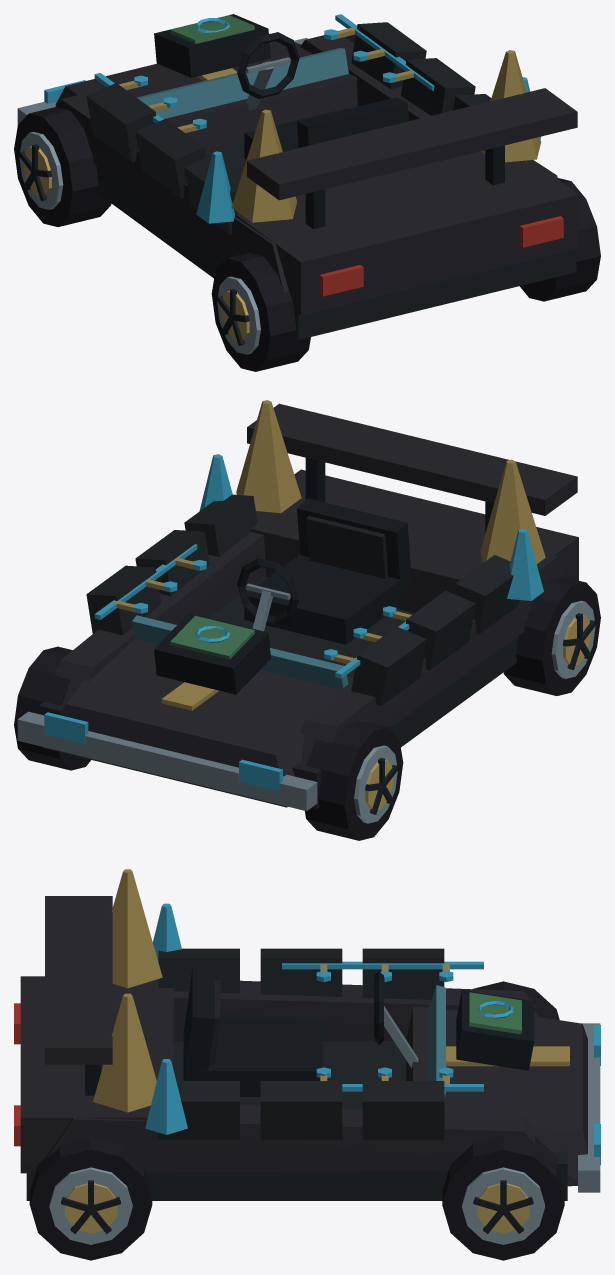
File: kart.glb
3 views of the same model, one above another, from view 1: azimuth 30°, elevation 25°; view 2: azimuth 150°, elevation 25°; view 3: azimuth 270°, elevation 25° (orthographic). The views are drawn at different scales.
Parts seen in each view (by area): view 1: identity-sports-car-sports-car-road-car-body, identity-sports-car-motif-armor, wheel-front-left, wheel-rear-left, identity-sports-car-motif-crystals, identity-sports-car-driver-cockpit, identity-sports-car-motif-scanner, wheel-rear-right, identity-sports-car-motif-circuit; view 2: identity-sports-car-sports-car-road-car-body, identity-sports-car-motif-armor, identity-sports-car-driver-cockpit, identity-sports-car-motif-crystals, wheel-front-left, wheel-rear-left, identity-sports-car-motif-scanner, wheel-front-right, identity-sports-car-motif-circuit; view 3: identity-sports-car-sports-car-road-car-body, identity-sports-car-motif-armor, wheel-front-right, identity-sports-car-driver-cockpit, wheel-rear-right, identity-sports-car-motif-crystals, identity-sports-car-motif-scanner, identity-sports-car-motif-circuit, wheel-front-left.
Part boxes in pixels (<box>): identity-sports-car-sports-car-road-car-body: <box>17,35,578,339</box>; identity-sports-car-motif-armor: <box>86,22,491,234</box>; wheel-front-left: <box>14,107,111,226</box>; wheel-rear-left: <box>211,253,310,371</box>; identity-sports-car-motif-crystals: <box>196,50,541,223</box>; identity-sports-car-driver-cockpit: <box>237,32,408,159</box>; identity-sports-car-motif-scanner: <box>154,14,270,77</box>; wheel-rear-right: <box>519,178,600,301</box>; identity-sports-car-motif-circuit: <box>94,14,434,133</box>; identity-sports-car-sports-car-road-car-body: <box>17,403,578,811</box>; identity-sports-car-motif-armor: <box>86,494,518,706</box>; identity-sports-car-driver-cockpit: <box>237,498,411,644</box>; identity-sports-car-motif-crystals: <box>199,400,545,600</box>; wheel-front-left: <box>305,721,403,840</box>; wheel-rear-left: <box>503,577,600,695</box>; identity-sports-car-motif-scanner: <box>154,613,270,694</box>; wheel-front-right: <box>14,646,90,770</box>; identity-sports-car-motif-circuit: <box>94,544,411,678</box>; identity-sports-car-sports-car-road-car-body: <box>14,896,600,1200</box>; identity-sports-car-motif-armor: <box>158,948,444,1140</box>; wheel-front-right: <box>442,1136,564,1260</box>; identity-sports-car-driver-cockpit: <box>183,966,418,1096</box>; wheel-rear-right: <box>29,1138,152,1260</box>; identity-sports-car-motif-crystals: <box>93,869,187,1134</box>; identity-sports-car-motif-scanner: <box>456,990,534,1070</box>; identity-sports-car-motif-circuit: <box>282,961,483,1091</box>; wheel-front-left: <box>472,981,559,1019</box>.
Bounding box in the file's own units: 2.07 × 1.32 × 2.88.
